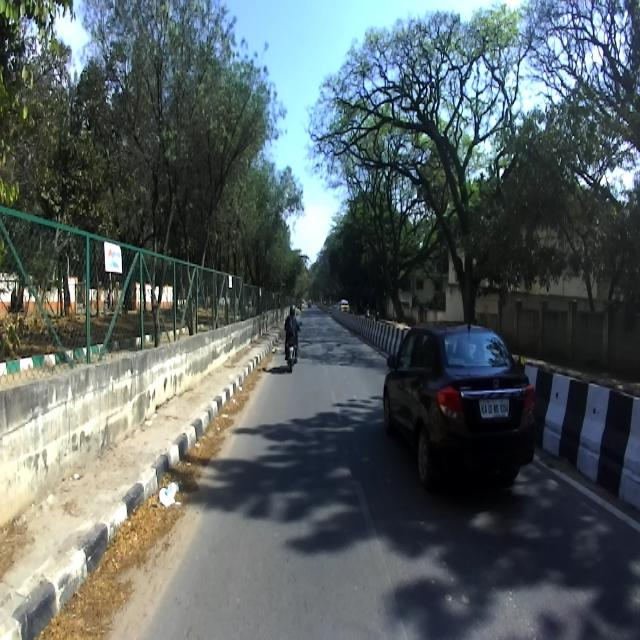Car_Honda: (382, 320, 538, 490)
